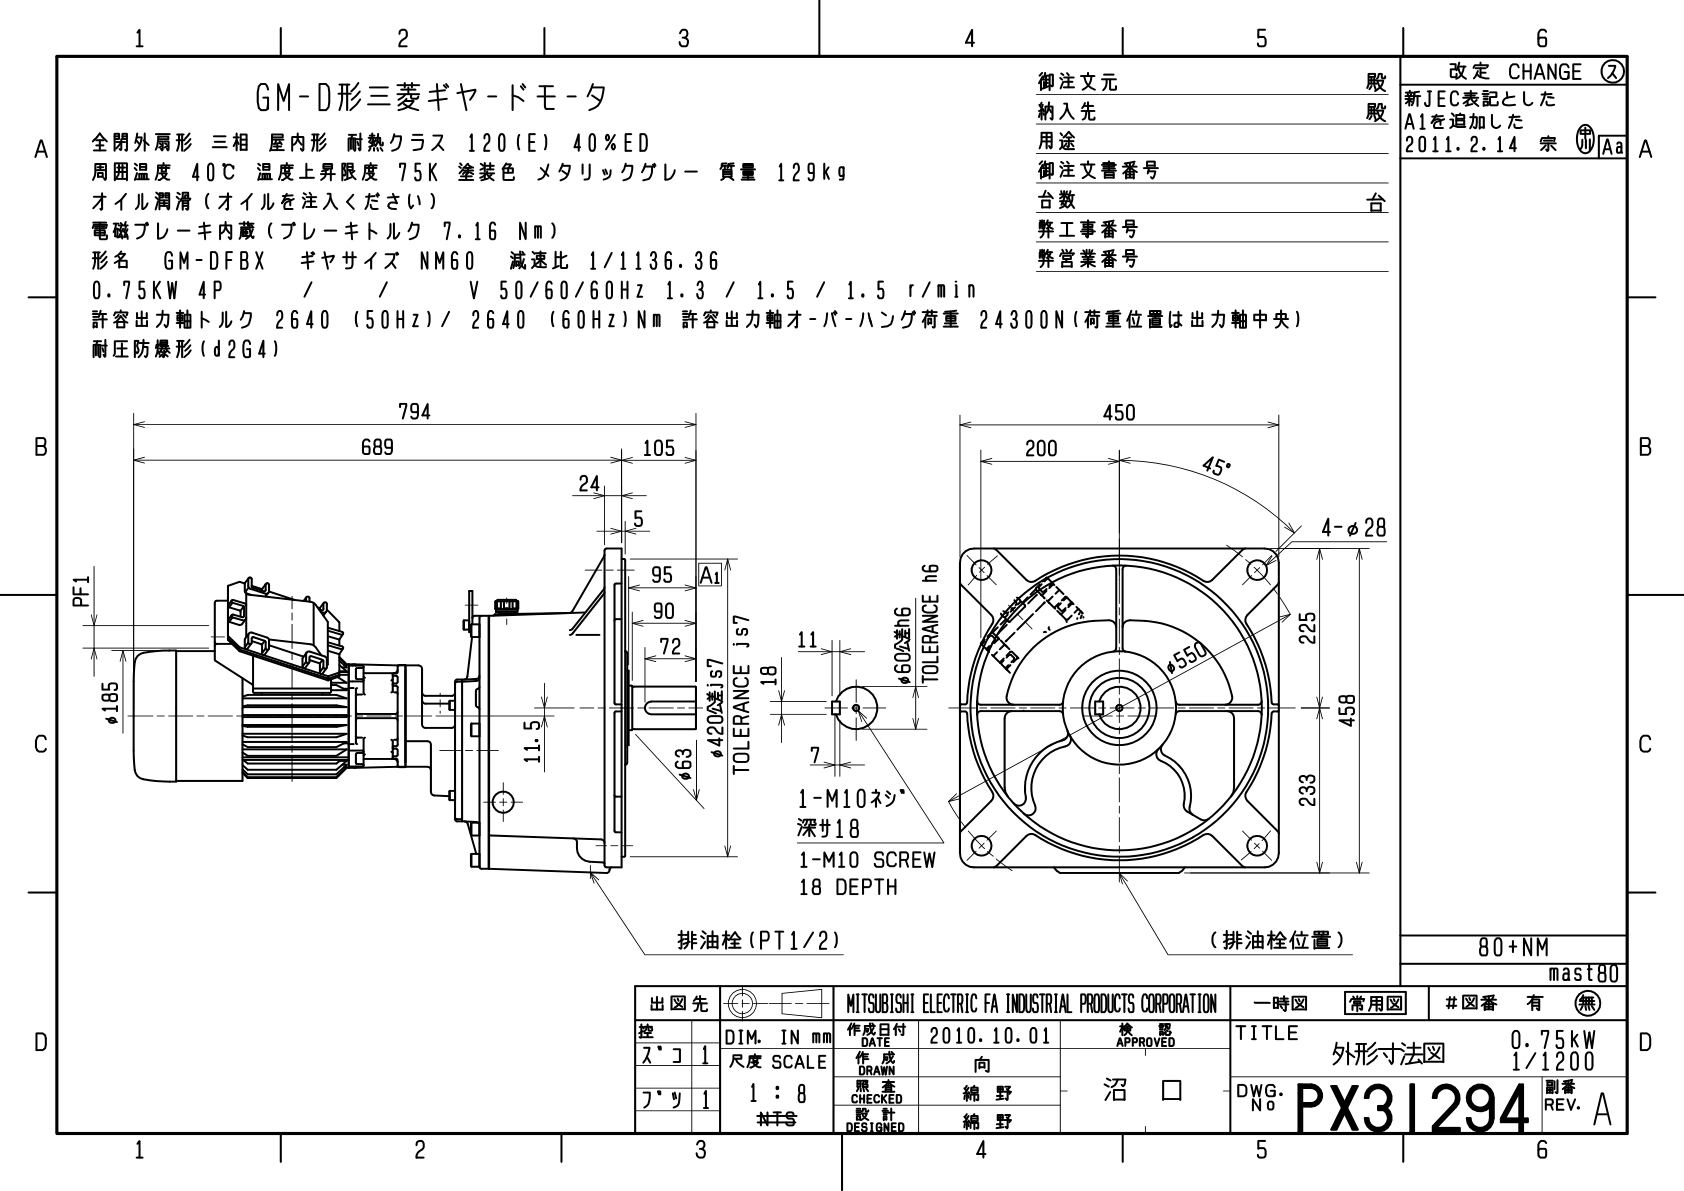GM_SP_屋内＿三相_フランジ: (63, 378, 1392, 971)
